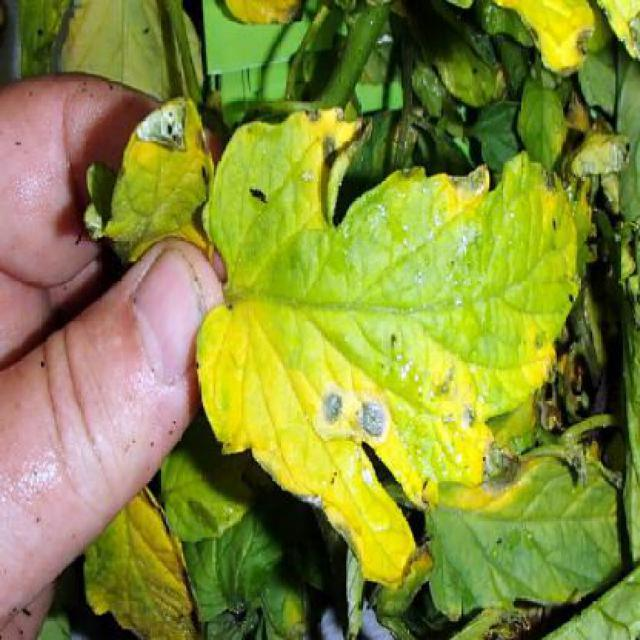Tomato Early blight leaf: (200, 87, 591, 578)
